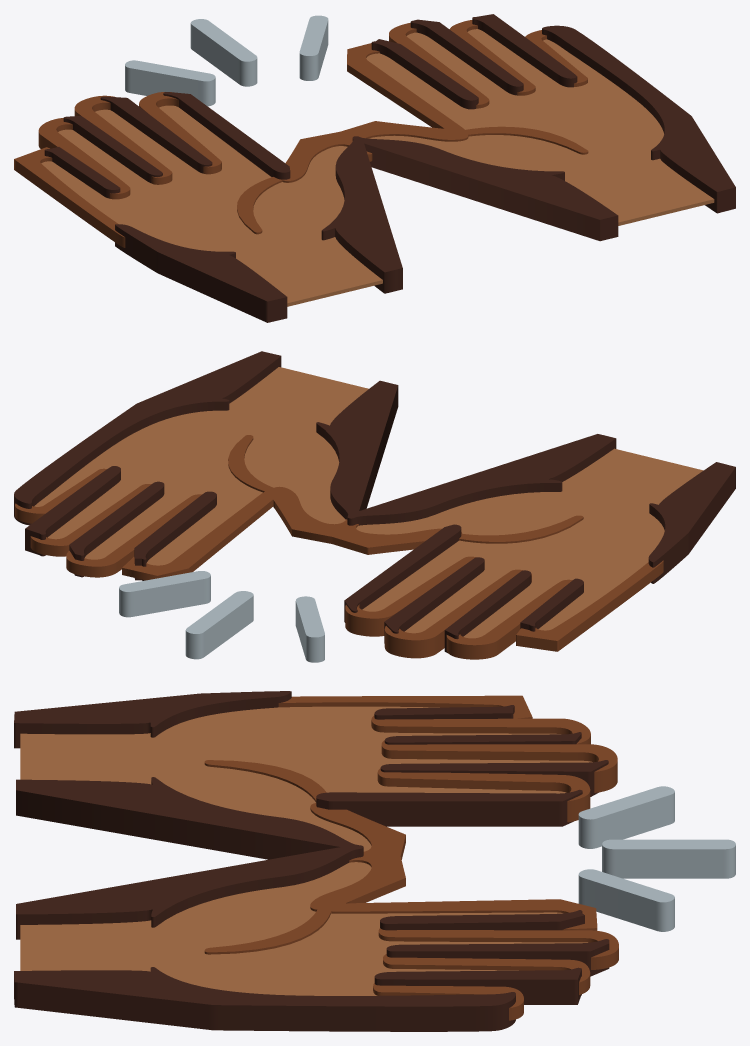
Rendered from emoji_u1f64c_1f3fe.glb.
The picture shows the model from 3 angles, top to bottom: view 1: azimuth 30°, elevation 25°; view 2: azimuth 150°, elevation 25°; view 3: azimuth 270°, elevation 25°; orthographic projection. The views are drawn at different scales.
Visible parts, largest first — view 1: emoji_u1f64c_1f3fe; view 2: emoji_u1f64c_1f3fe; view 3: emoji_u1f64c_1f3fe.
Part boxes in pixels (box(x1,y1,x2,y2)): emoji_u1f64c_1f3fe: box(14, 14, 735, 322); emoji_u1f64c_1f3fe: box(14, 351, 735, 662); emoji_u1f64c_1f3fe: box(14, 691, 735, 1031).
Size of the model in its own units: 0.0322 by 0.0014 by 0.031.
